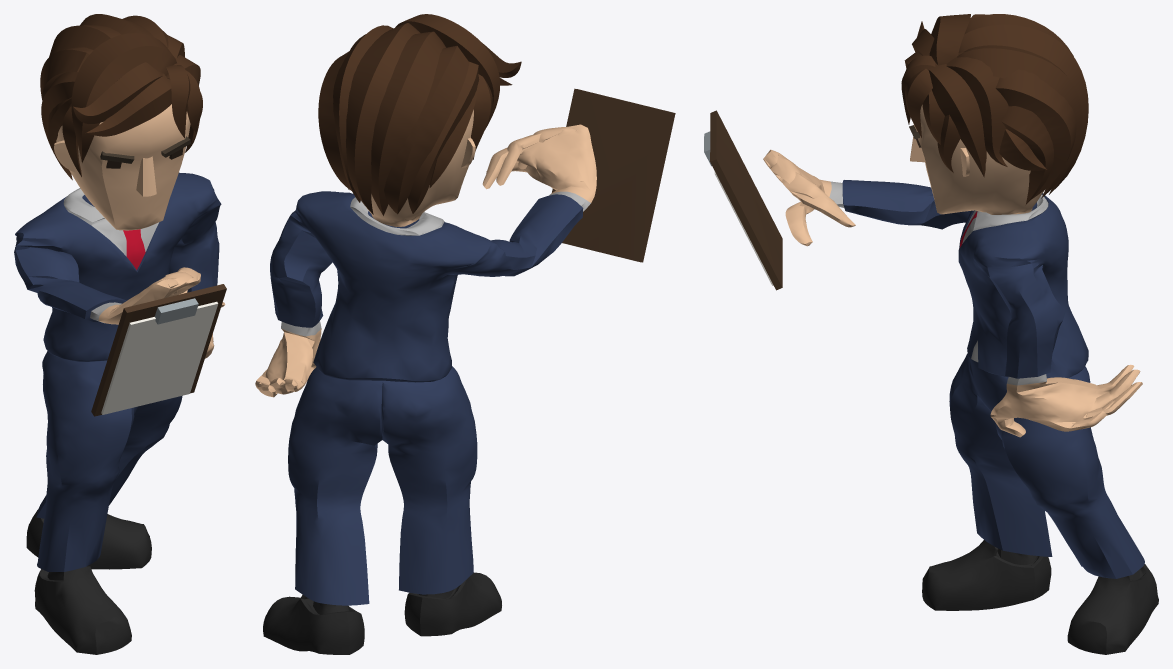
File: av-estagiario-bolao.glb
3 views of the same model, side by side, from view 1: azimuth 30°, elevation 25°; view 2: azimuth 150°, elevation 25°; view 3: azimuth 270°, elevation 25° (orthographic). The views are drawn at different scales.
Parts seen in each view (by area): view 1: Ad_prancheta_0_0; view 2: Ad_prancheta_0_0; view 3: Ad_prancheta_0_0.
Boxes of the visible parts, x1,y1,x2,y2 form: Ad_prancheta_0_0: (14, 14, 226, 654); Ad_prancheta_0_0: (255, 14, 675, 654); Ad_prancheta_0_0: (704, 14, 1158, 654).
Size of the model in its own units: 0.6008 by 1.37 by 0.9423.
Materials: 1 (1 with a texture image).
